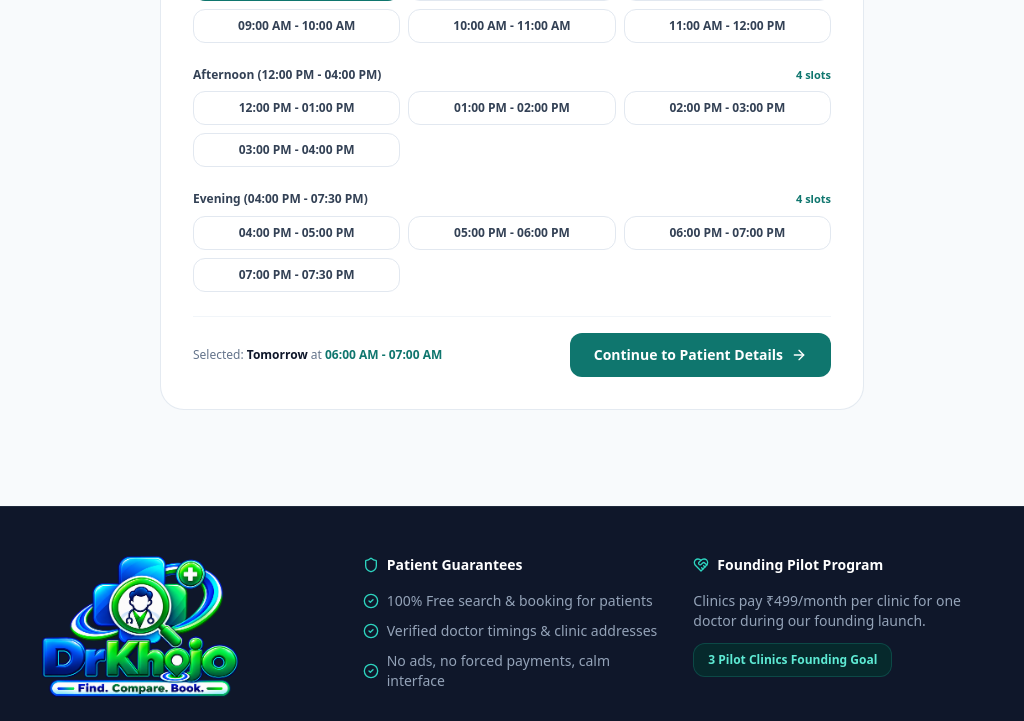
it: Booking Flow & Patient Details › toggles between Myself and Someone else
(page scrolled)
Click the button "Continue to Patient Details" at (700, 354), box [570,332,831,376]
(page scrolled)
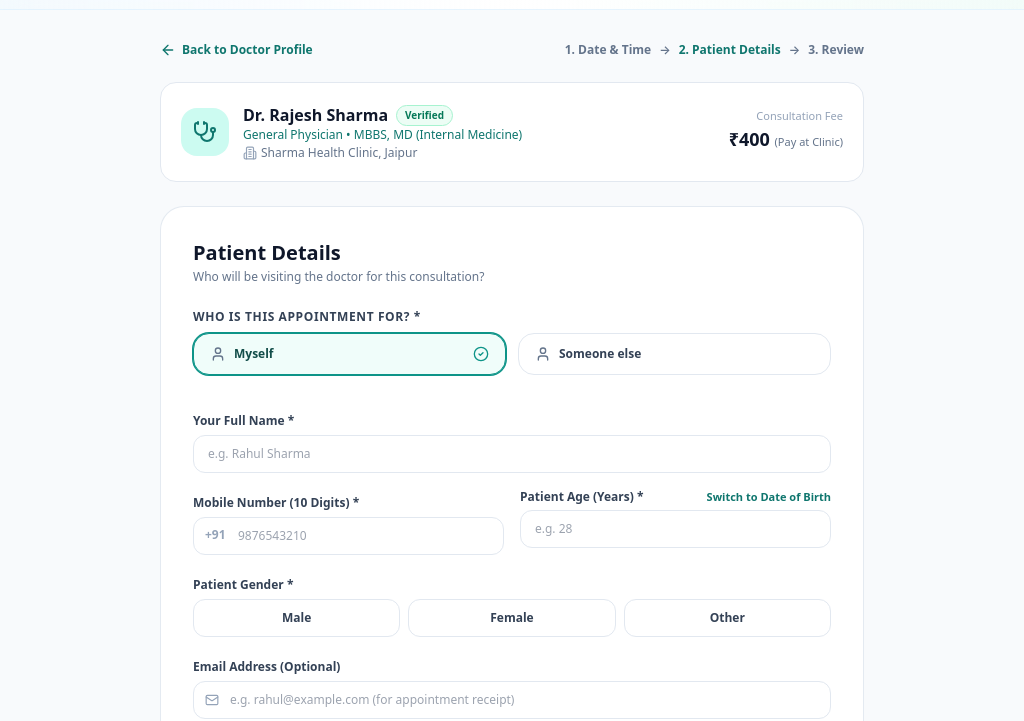
Now the button "Myself" is shown, box [193,333,506,375]
Now the button "Someone else" is shown
Note: Switch to Someone else
Click the button "Someone else" at (600, 354), box [518,333,831,375]
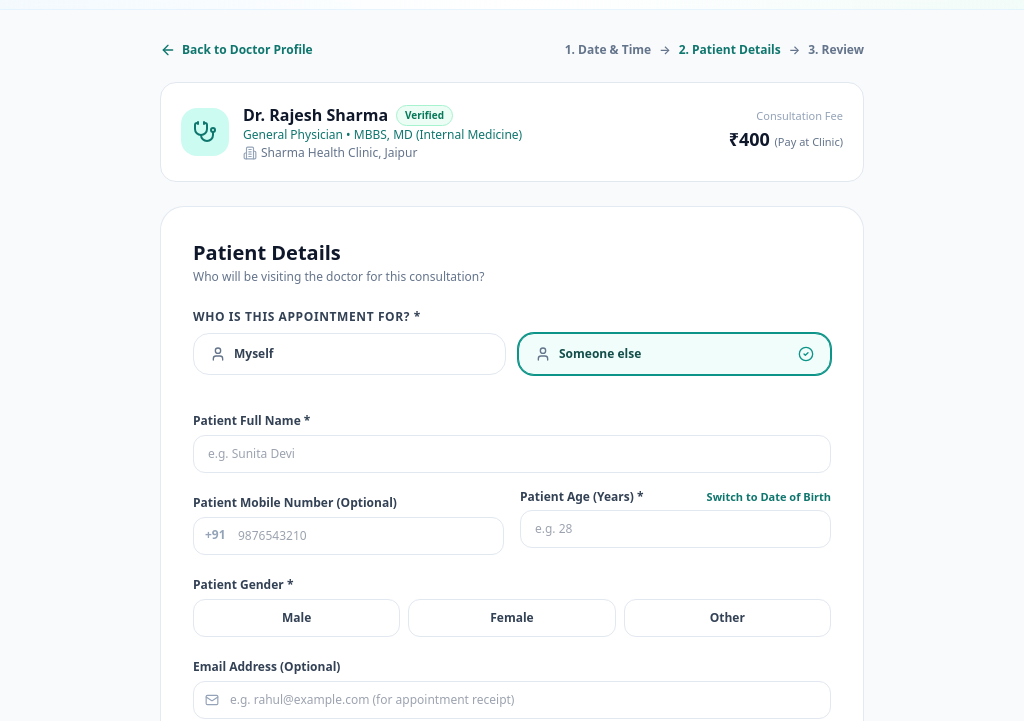
Now the text "Patient Full Name *" is shown, box [193,412,310,429]
Now the text "Patient Mobile Number (Optional)" is shown, box [193,494,397,511]
Note: Switch back to Myself
Click the button "Myself" at (254, 354), box [193,333,506,375]
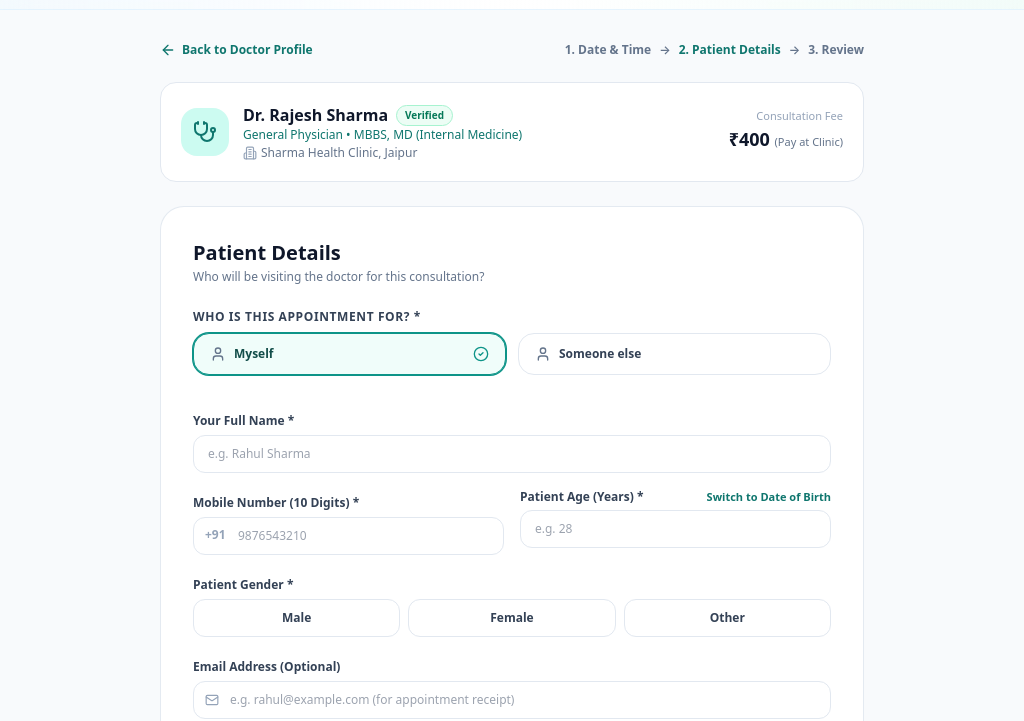
Now the text "Your Full Name *" is shown, box [193,412,294,429]
Now the text "Mobile Number (10 Digits) *" is shown, box [193,494,359,511]
